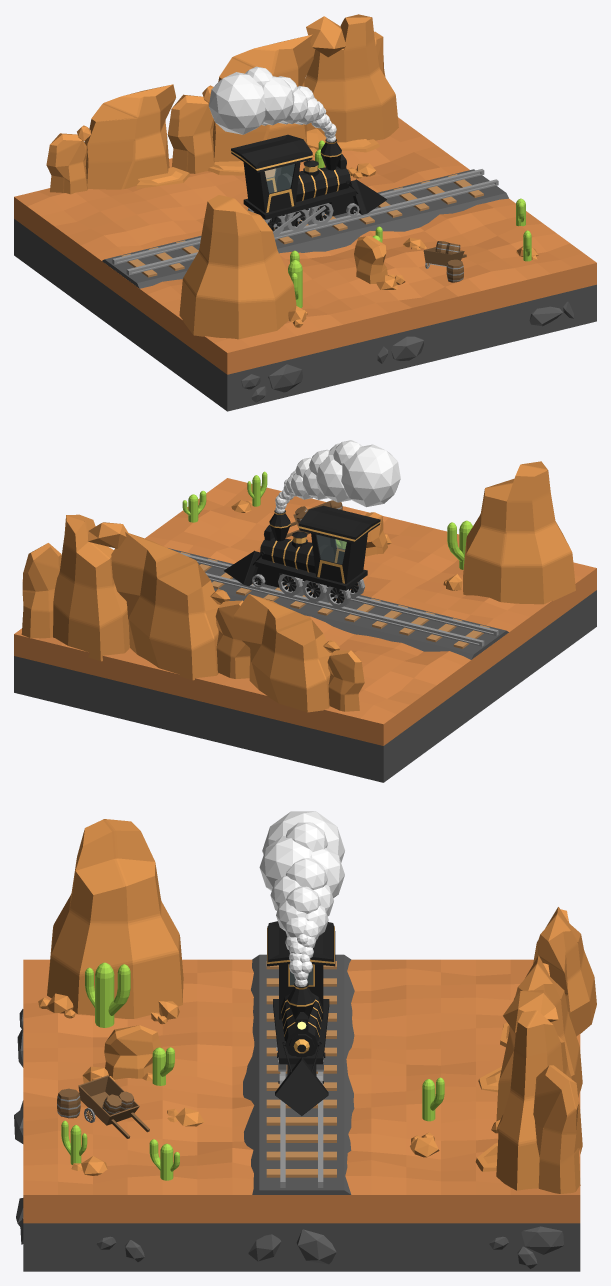
The model's file is alone_in_the_desert_-_train_desert_diorama.glb.
The picture shows the model from 3 angles, top to bottom: view 1: azimuth 30°, elevation 25°; view 2: azimuth 150°, elevation 25°; view 3: azimuth 270°, elevation 25°; orthographic projection. The views are drawn at different scales.
Parts seen in each view (by area): view 1: Floor_0, Cube.011_57, Cube.012_58, Cube.015_61, Cube_2, Cube.013_59, Cube.004_68, Cube.002_4, Cube.014_60, Icosphere.018_87, Cube.016_62, Cube.001_3 (+11 smaller); view 2: Floor_0, Cube.011_57, Cube.013_59, Cube.015_61, Cube.012_58, Cube_2, Cube.004_68, Cube.002_4, Cube.024_64, Icosphere.018_87, Cube.014_60, Cube.016_62 (+12 smaller); view 3: Floor_0, Cube.011_57, Cube_2, Cube.012_58, Cube.024_64, Cube.001_3, Cube.015_61, Cube.013_59, Cube.004_68, Cube.017_63, Cylinder.009_6, Cube.008_94 (+20 smaller).
Boxes of the visible parts, x1,y1,x2,y2 form: Floor_0: (14, 117, 596, 411); Cube.011_57: (179, 195, 296, 339); Cube.012_58: (304, 14, 398, 142); Cube.015_61: (84, 84, 175, 189); Cube_2: (102, 169, 508, 288); Cube.013_59: (212, 34, 315, 161); Cube.004_68: (230, 134, 312, 212); Cube.002_4: (112, 169, 498, 275); Cube.014_60: (167, 94, 214, 173); Icosphere.018_87: (208, 72, 265, 134); Cube.016_62: (46, 133, 87, 194); Cube.001_3: (121, 174, 483, 277); Floor_0: (14, 478, 596, 782); Cube.011_57: (463, 461, 575, 604); Cube.013_59: (111, 532, 220, 680); Cube.015_61: (233, 594, 331, 712); Cube.012_58: (53, 514, 129, 661); Cube_2: (168, 548, 508, 659); Cube.004_68: (298, 505, 380, 583); Cube.002_4: (178, 552, 498, 646); Cube.024_64: (21, 543, 61, 638); Icosphere.018_87: (341, 444, 400, 507); Cube.014_60: (215, 600, 249, 678); Cube.016_62: (327, 650, 364, 711); Floor_0: (23, 959, 580, 1271); Cube.011_57: (47, 819, 183, 1018); Cube_2: (243, 954, 354, 1194); Cube.012_58: (496, 1010, 582, 1190); Cube.024_64: (533, 1065, 580, 1193); Cube.001_3: (266, 961, 336, 1177); Cube.015_61: (533, 907, 596, 1036); Cube.013_59: (496, 955, 582, 1121); Cube.004_68: (267, 921, 335, 1019); Cube.017_63: (104, 1025, 161, 1079); Cylinder.009_6: (85, 962, 130, 1027); Cube.008_94: (275, 1057, 328, 1115).
Bounding box in the file's own units: 9.83 × 5.65 × 9.93.
